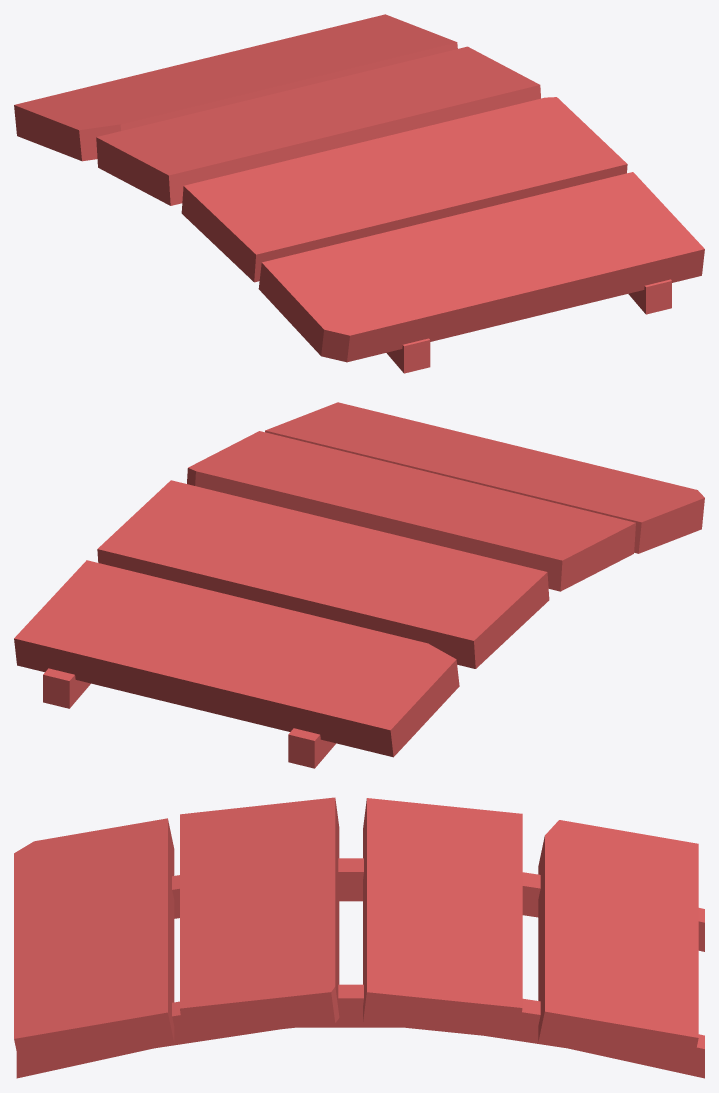
The model's file is lavaDing_01.fbx.
3 views of the same model, one above another, from view 1: azimuth 30°, elevation 25°; view 2: azimuth 150°, elevation 25°; view 3: azimuth 270°, elevation 25° (orthographic). The views are drawn at different scales.
Parts seen in each view (by area): view 1: Cube.037; view 2: Cube.037; view 3: Cube.037.
Part boxes in pixels (<box>): Cube.037: <box>14,14,704,373</box>; Cube.037: <box>14,402,704,768</box>; Cube.037: <box>14,797,704,1078</box>.
Size of the model in its own units: 126 by 31.28 by 189.
